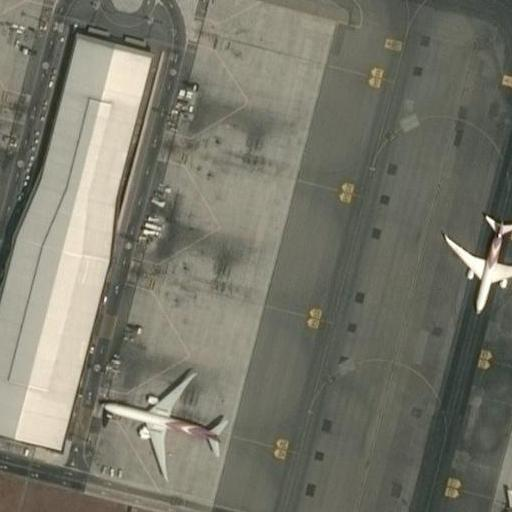Aircraft: (100, 356, 226, 479), (439, 201, 512, 310), (496, 455, 512, 512), (0, 0, 29, 10)
